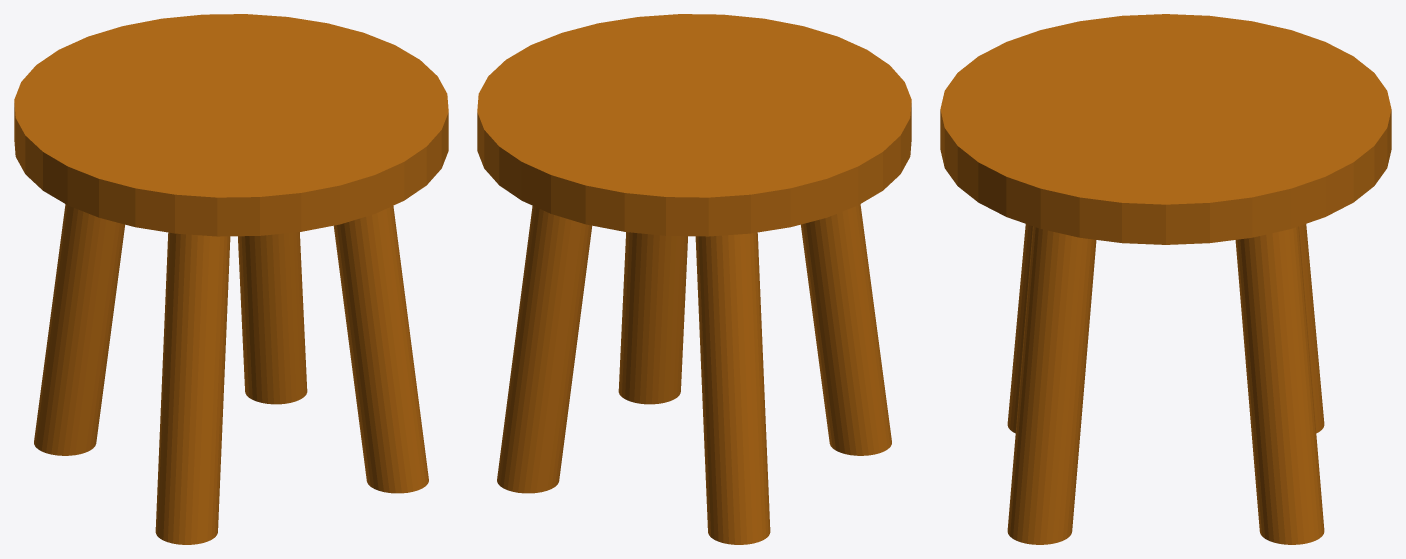
Rendered from taburetka.fbx.
3 views of the same model, side by side, from view 1: azimuth 30°, elevation 25°; view 2: azimuth 150°, elevation 25°; view 3: azimuth 270°, elevation 25° (orthographic). The views are drawn at different scales.
Visible parts, largest first — view 1: Cylinder.003; view 2: Cylinder.003; view 3: Cylinder.003.
Boxes of the visible parts, left/top/right/bottom form: Cylinder.003: left=14, top=14, right=448, bottom=544; Cylinder.003: left=477, top=14, right=911, bottom=544; Cylinder.003: left=940, top=14, right=1391, bottom=544.
Size of the model in its own units: 33.84 by 30.5 by 33.84.
